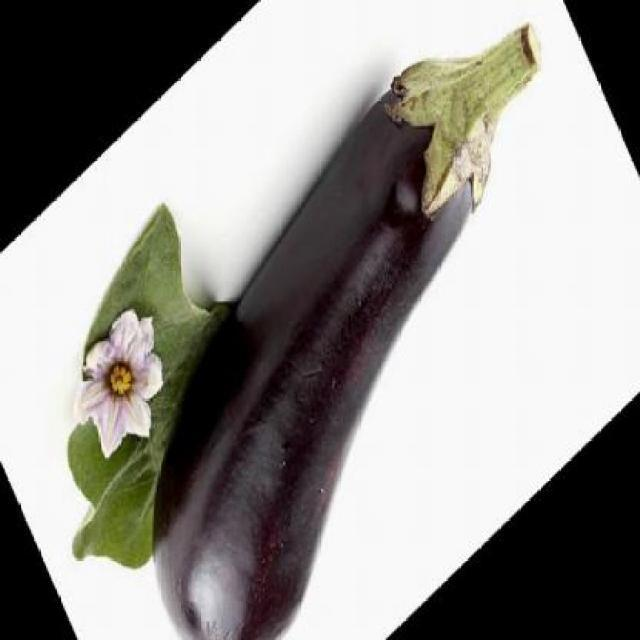eggplant: (148, 21, 545, 640)
